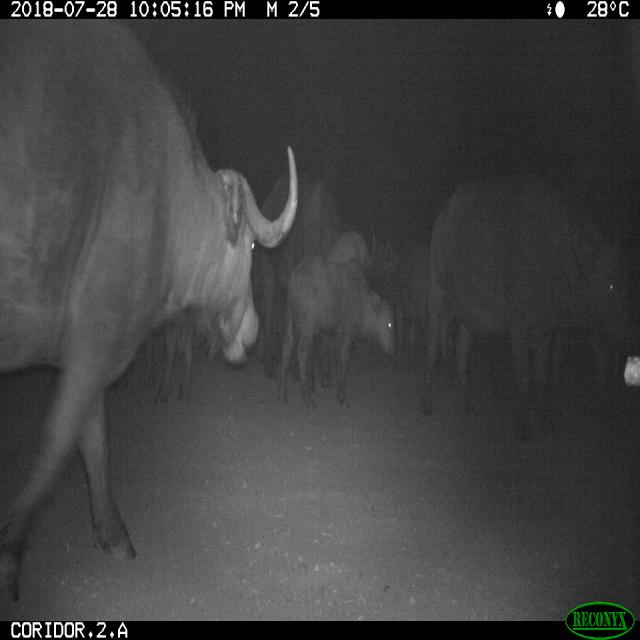buffalo: (0, 18, 298, 601)
